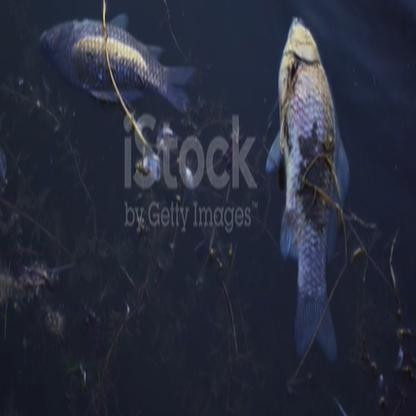deceased fish: (267, 16, 348, 361), (28, 16, 193, 111)
